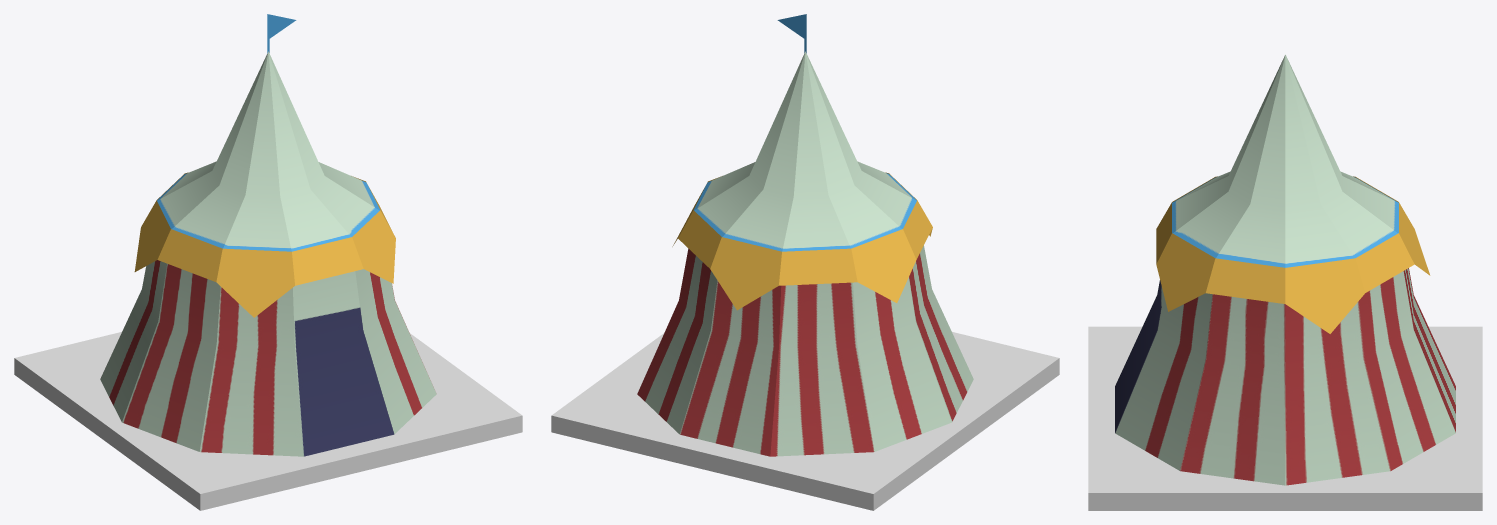
File: Circus02_1.FBX
3 renders of one model, left to right at view 1: azimuth 30°, elevation 25°; view 2: azimuth 150°, elevation 25°; view 3: azimuth 270°, elevation 25°, orthographic. The views are drawn at different scales.
Visible parts, largest first — view 1: Plane001, Box001; view 2: Plane001, Box001; view 3: Plane001, Box001.
Part boxes in pixels (x1,y1,x2,y2): Plane001: (100,14,436,456); Box001: (14,332,522,510); Plane001: (637,14,973,456); Box001: (551,332,1059,510); Plane001: (1115,54,1455,485); Box001: (1088,326,1482,510).
Size of the model in its own units: 1 by 1.16 by 1.
4 materials, 4 textured.
